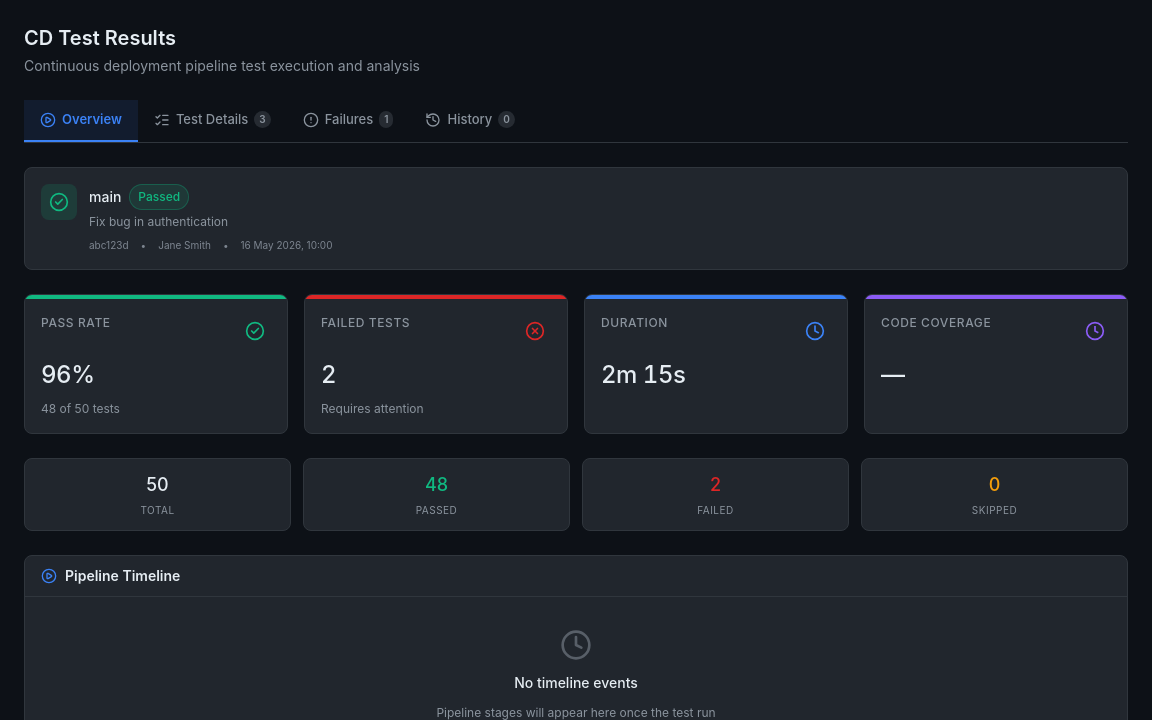
Test: TestResultsView › switches tabs when clicked
This screenshot has width=1152, height=720.
Click on Test Details tab
What coordinates should you click on to do the following:
click the tab "Test Details 3"
I would click on:
 (212, 121)
Its box is [138,100,287,142].
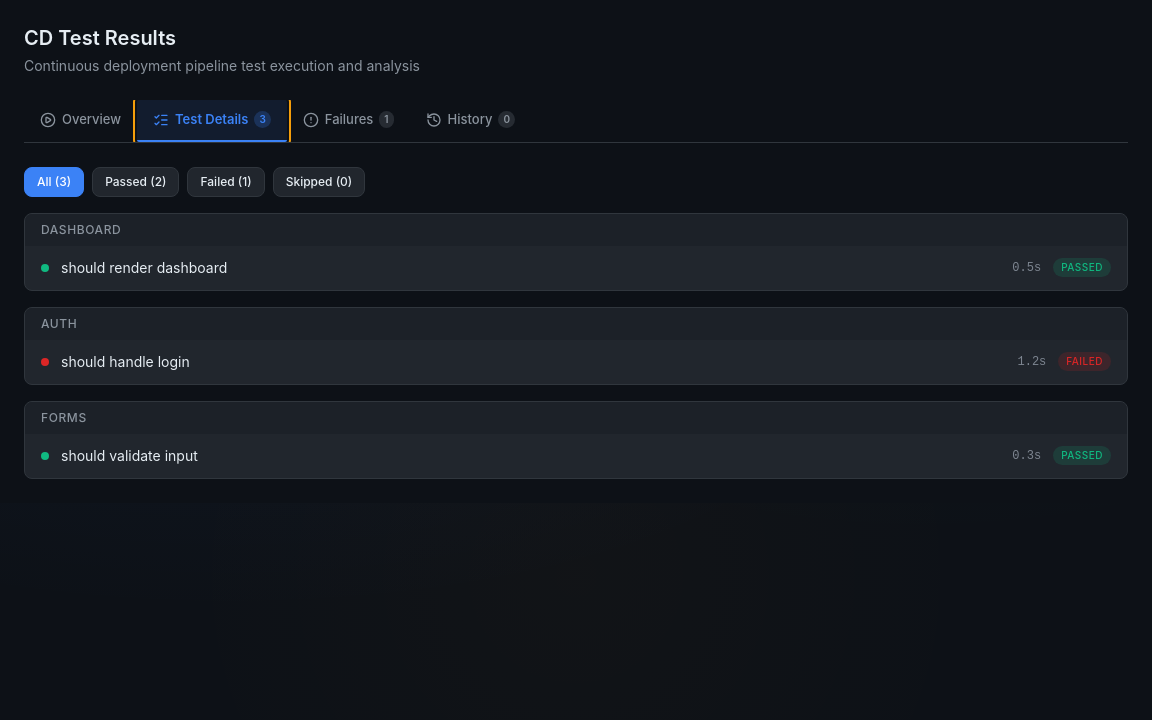
Result: the text "should render dashboard" is shown at [61,258,227,278]
